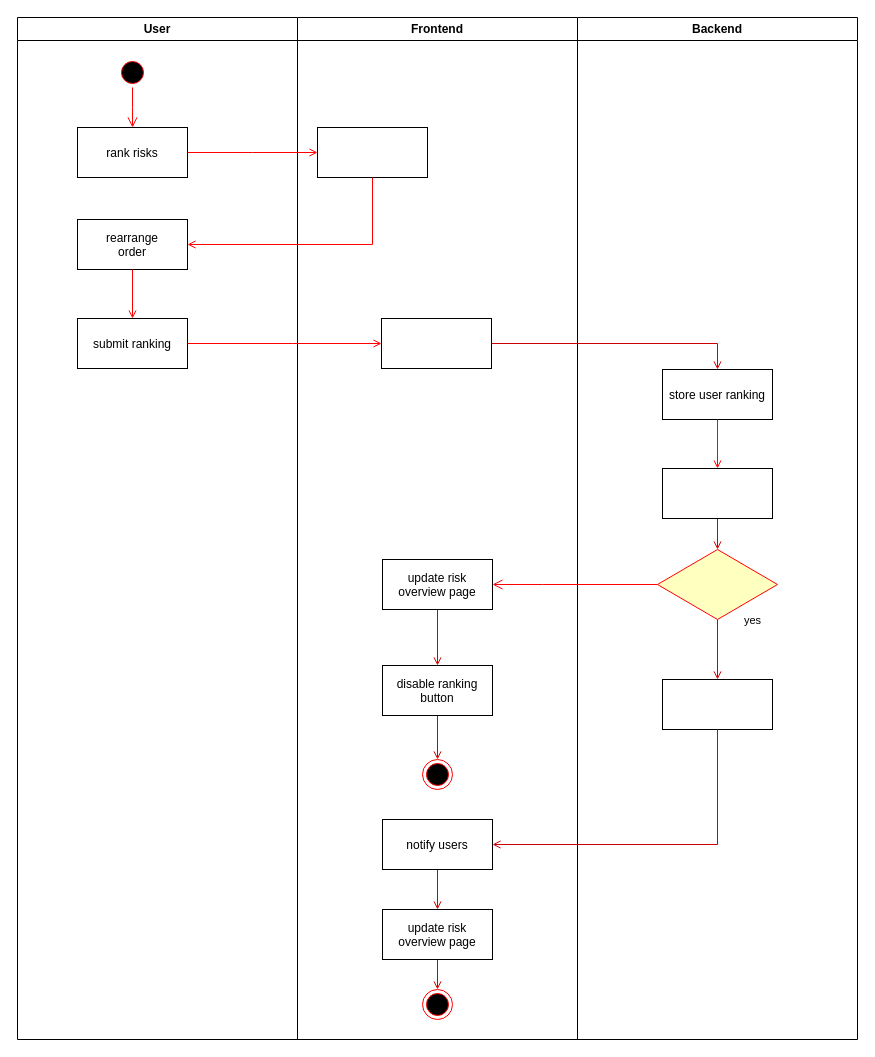
Some shapes in this 875 by 1057 pixel diagram are drawn without their labels. The shapes that lost their labels are listed below. From the top down, each one's centre as x and y in pixels, then its label:
point 372,152: enable repositioning
point 436,343: POST user ranking
point 717,493: calculate new overall ranking
point 717,584: categories broken?
point 717,704: re-open discussion for affected risks
